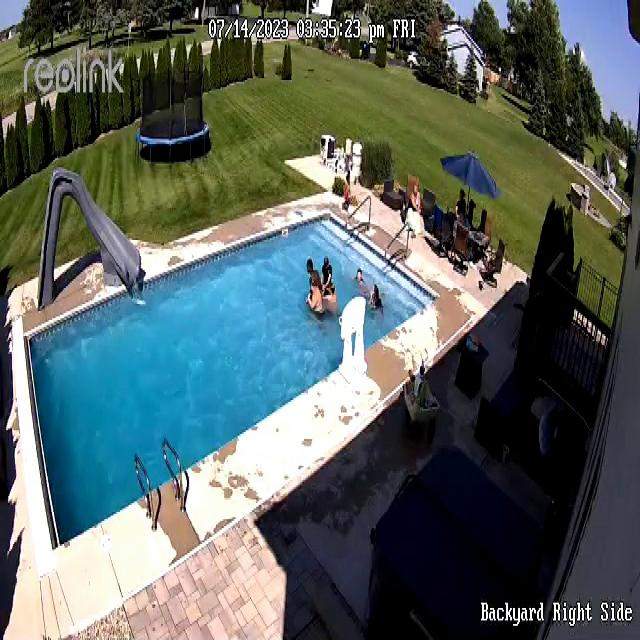adult: (303, 252, 323, 297), (308, 270, 322, 315), (322, 256, 336, 295), (409, 182, 422, 224)
child: (343, 171, 351, 210)
